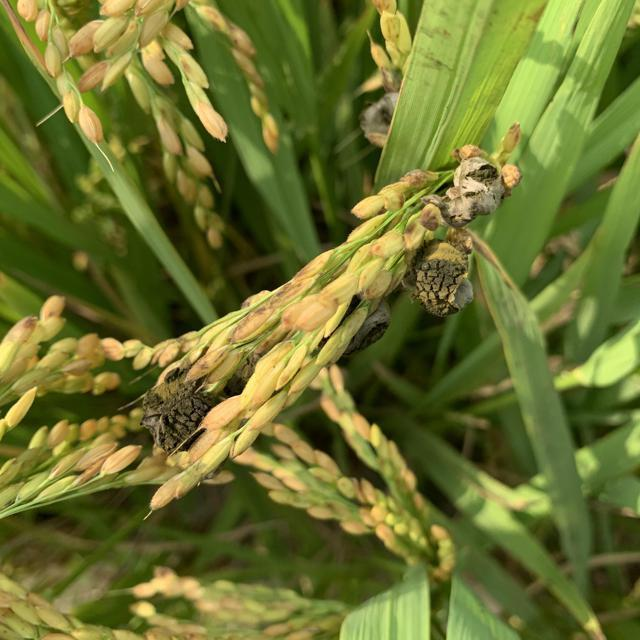Leaf_Scald: (402, 238, 480, 319), (139, 374, 216, 452), (432, 152, 509, 230), (316, 295, 393, 362), (360, 94, 403, 144)
